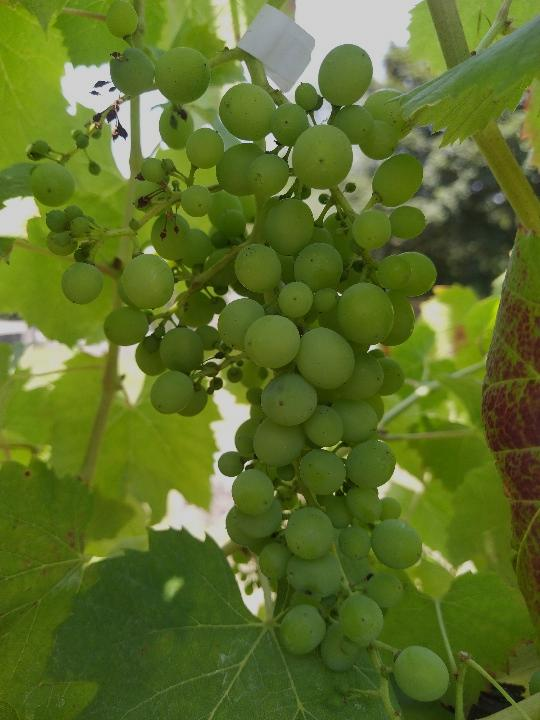grape: (25, 4, 451, 705)
